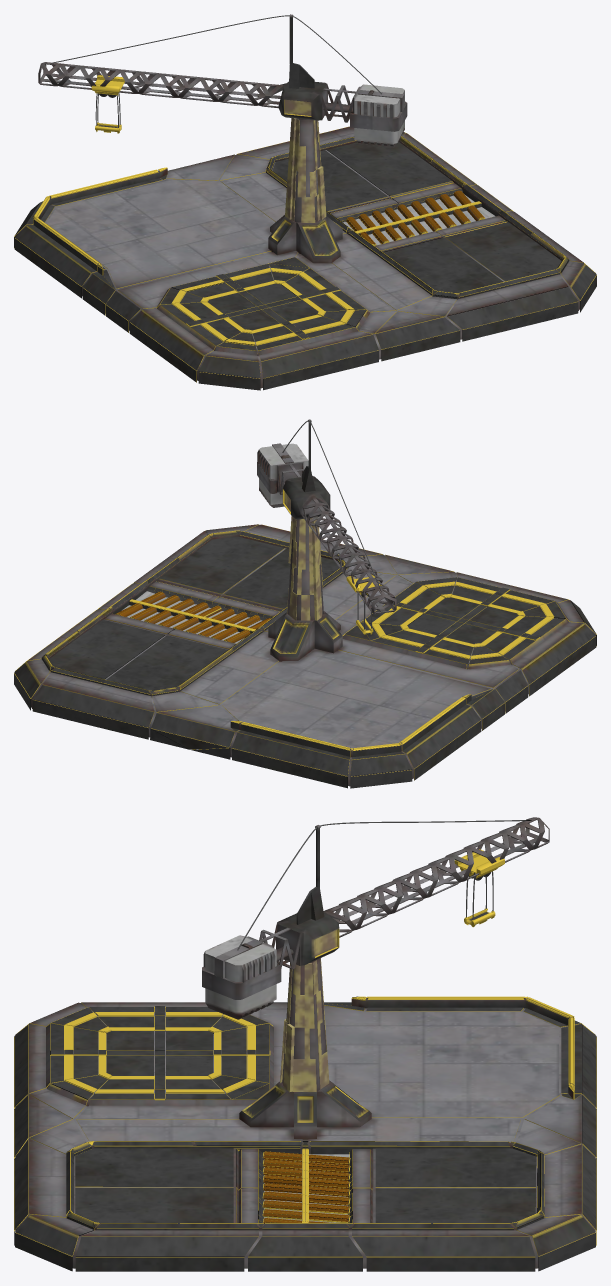
File: Crane.glb
3 renders of one model, top to bottom at view 1: azimuth 30°, elevation 25°; view 2: azimuth 150°, elevation 25°; view 3: azimuth 270°, elevation 25°, orthographic. The views are drawn at different scales.
Visible parts, largest first — view 1: ShimentCrane_Baked; view 2: ShimentCrane_Baked; view 3: ShimentCrane_Baked.
Boxes of the visible parts, x1,y1,x2,y2 form: ShimentCrane_Baked: (14, 14, 596, 390); ShimentCrane_Baked: (14, 419, 596, 788); ShimentCrane_Baked: (14, 817, 596, 1271).
Size of the model in its own units: 39.79 by 23.9 by 39.79.
1 material, 1 textured.
